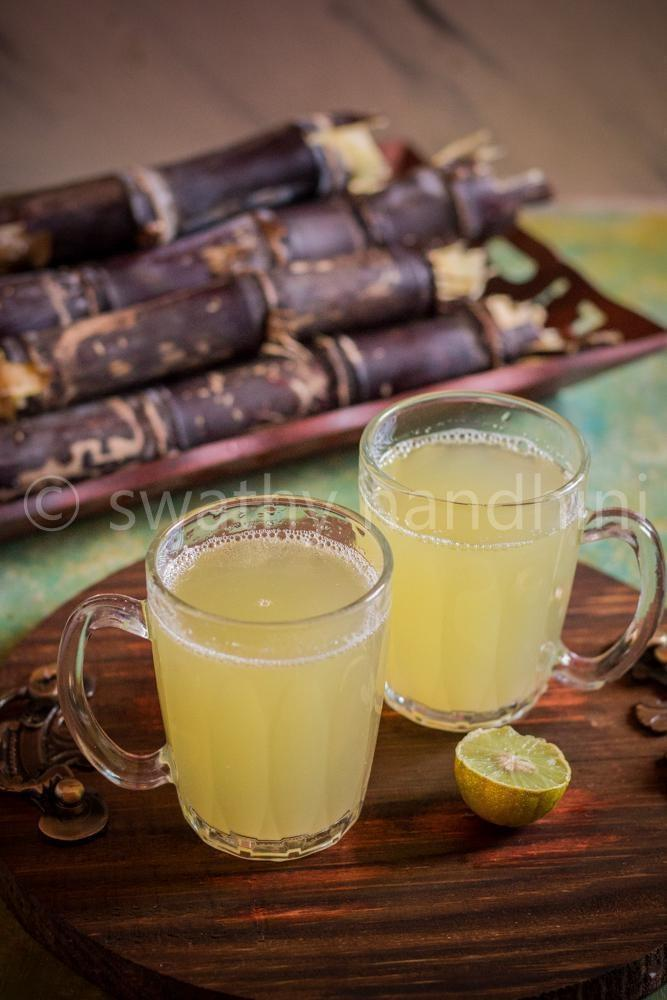glass-mug: (53, 492, 397, 865), (354, 390, 662, 732)
